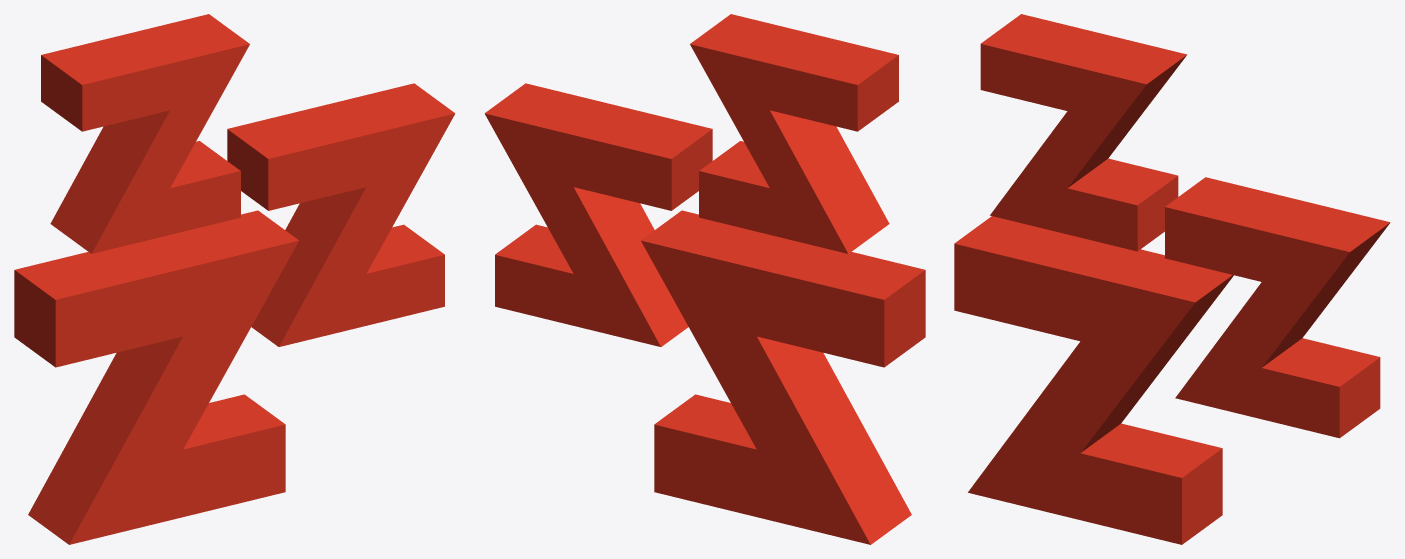
The model's file is Icon_ZZZ.fbx.
3 renders of one model, left to right at view 1: azimuth 30°, elevation 25°; view 2: azimuth 150°, elevation 25°; view 3: azimuth 330°, elevation 25°, orthographic.
Parts seen in each view (by area): view 1: Icon_ZZZ; view 2: Icon_ZZZ; view 3: Icon_ZZZ.
Part boxes in pixels (x1,y1,x2,y2): Icon_ZZZ: (14,14,455,544); Icon_ZZZ: (484,14,925,544); Icon_ZZZ: (954,14,1390,544).
Bounding box in the file's own units: 67.64 × 73.82 × 12.06.
